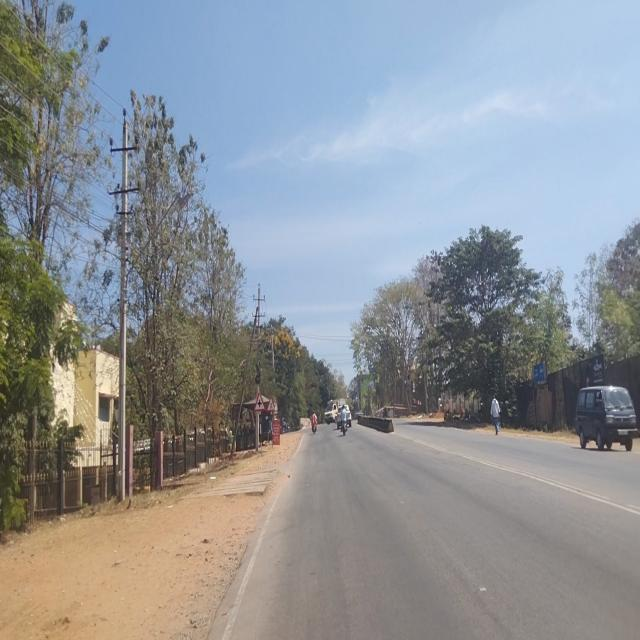bien_cam: (253, 392, 266, 411)
